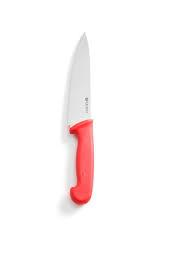Knife: (66, 31, 94, 204)
